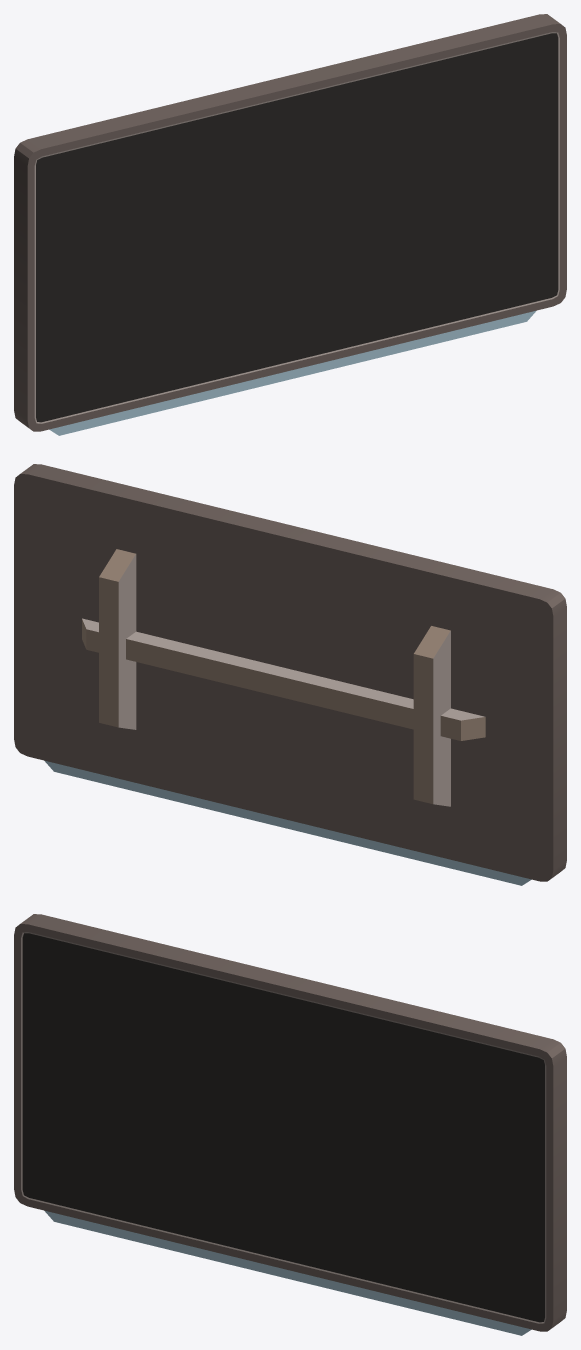
The picture shows the model from 3 angles, top to bottom: view 1: azimuth 30°, elevation 25°; view 2: azimuth 150°, elevation 25°; view 3: azimuth 330°, elevation 25°; orthographic projection.
Parts seen in each view (by area): view 1: TV; view 2: TV; view 3: TV.
Part boxes in pixels (x1,y1,x2,y2): TV: [14, 14, 566, 435]; TV: [14, 464, 566, 885]; TV: [14, 914, 566, 1335].
Bounding box in the file's own units: 200 × 20 × 105.
